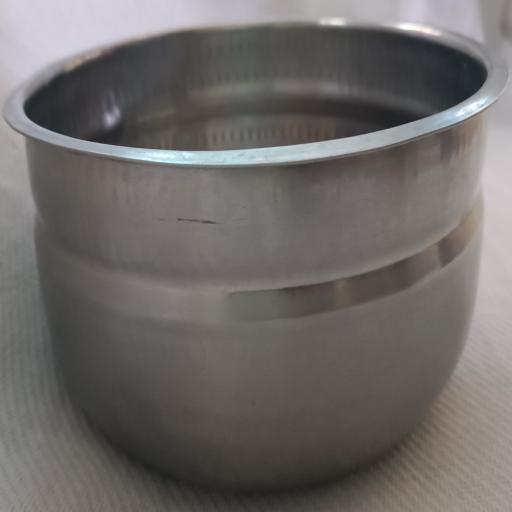vessel: (4, 19, 507, 489)
